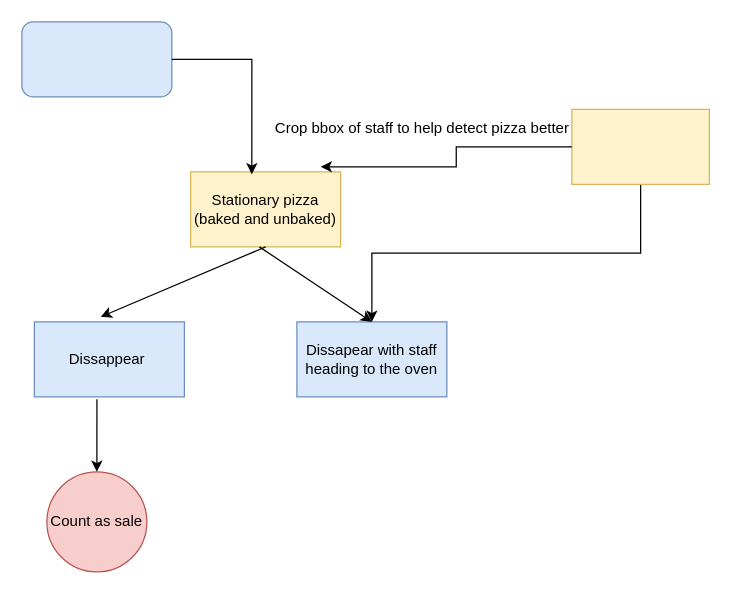
Image size: 731x594. Some labels were removed from this diagram. Each missing label, with the centre of its shape:
Pizza: point 96,59
Staff: point 640,146
